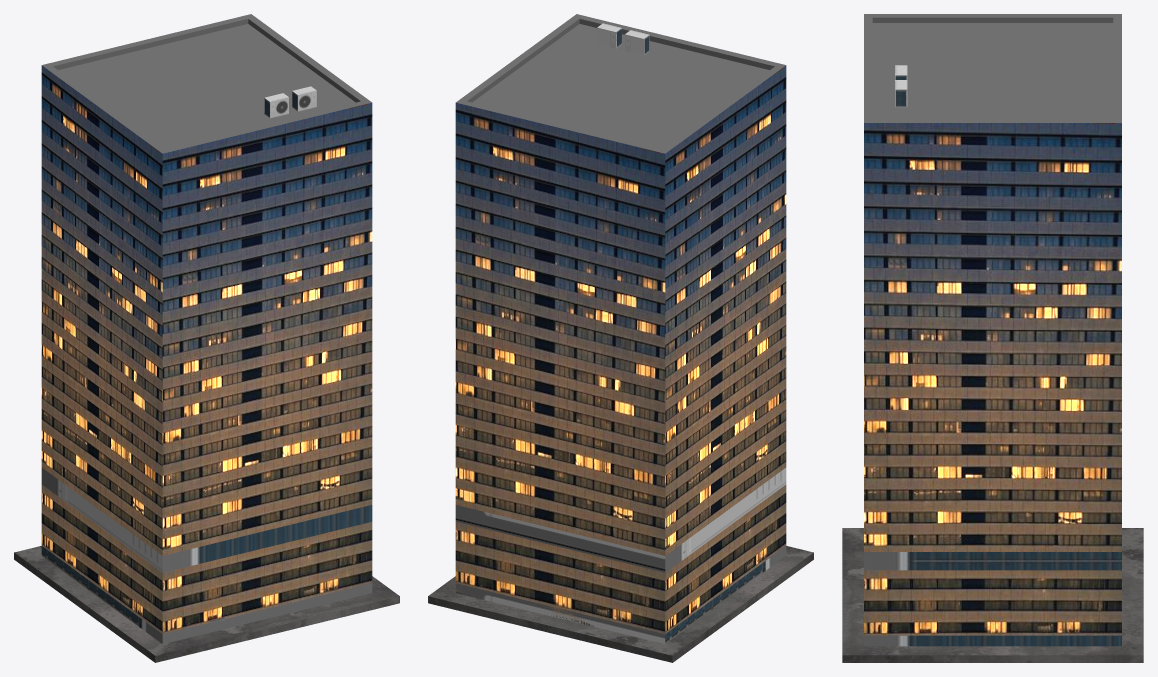
File: fog_city.glb
The picture shows the model from 3 angles, left to right: view 1: azimuth 30°, elevation 25°; view 2: azimuth 150°, elevation 25°; view 3: azimuth 270°, elevation 25°; orthographic projection. The views are drawn at different scales.
Visible parts, largest first — view 1: fog_night_tower, fog_floor, fog_office_tower; view 2: fog_night_tower, fog_floor, fog_office_tower; view 3: fog_night_tower, fog_office_tower, fog_floor.
Part boxes in pixels (bbox=[...]): fog_night_tower: bbox=[41, 14, 372, 634]; fog_floor: bbox=[41, 467, 372, 643]; fog_office_tower: bbox=[14, 546, 399, 662]; fog_night_tower: bbox=[455, 14, 786, 634]; fog_floor: bbox=[455, 467, 786, 643]; fog_office_tower: bbox=[428, 546, 813, 662]; fog_night_tower: bbox=[864, 14, 1121, 635]; fog_office_tower: bbox=[842, 528, 1143, 662]; fog_floor: bbox=[864, 552, 1121, 646].
Bounding box in the file's own units: 3.5 × 6.96 × 3.5.
Materials: 12 (11 with a texture image).
